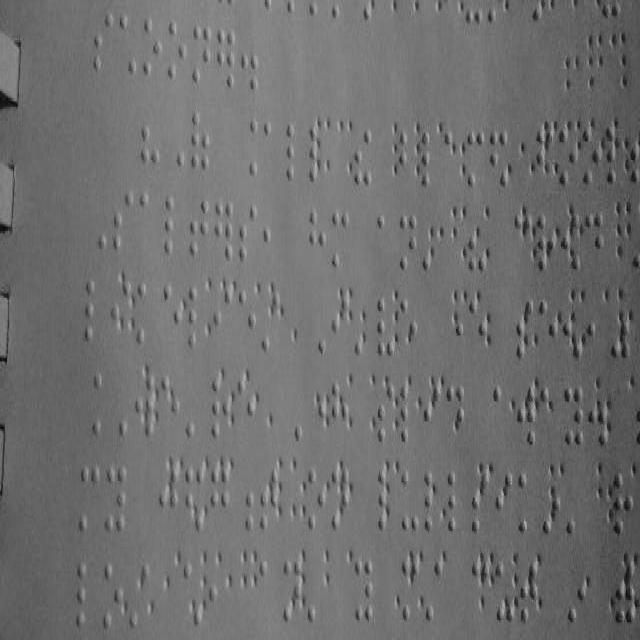braiile: (78, 462, 102, 534), (248, 114, 272, 184), (104, 462, 126, 538), (92, 370, 115, 439), (284, 118, 308, 184), (76, 558, 98, 629), (85, 274, 107, 344), (464, 128, 488, 192), (102, 561, 124, 630), (92, 8, 114, 76), (517, 468, 539, 536), (612, 468, 634, 536), (188, 191, 210, 258), (136, 281, 158, 346), (163, 190, 185, 254), (112, 188, 134, 252), (354, 556, 374, 626), (306, 466, 326, 534), (400, 468, 420, 536), (192, 20, 212, 87), (188, 282, 208, 349), (162, 282, 182, 349), (167, 16, 187, 82), (538, 296, 558, 362), (259, 558, 279, 624), (563, 383, 583, 448), (420, 128, 440, 192), (307, 206, 327, 270), (447, 468, 467, 532), (138, 191, 158, 253), (238, 202, 258, 264), (330, 207, 350, 269), (584, 209, 604, 271), (376, 296, 396, 358), (493, 384, 511, 452), (398, 128, 417, 192), (558, 126, 578, 186), (398, 212, 418, 272), (212, 376, 230, 442), (237, 376, 255, 442), (143, 14, 161, 79), (213, 288, 231, 352), (211, 468, 229, 532), (582, 127, 600, 189), (238, 289, 256, 351), (468, 298, 486, 360), (400, 386, 418, 444), (378, 384, 394, 442), (378, 210, 394, 266)
